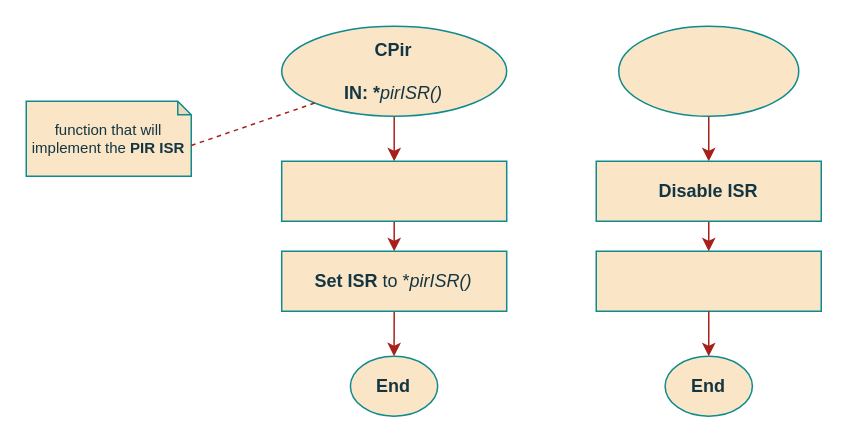
This 848x443 diagram has some shape labels left out. Each missing label, with the box of its shape:
Insert PIR device driver: (280, 160, 507, 221)
Remove PIR device driver: (595, 250, 821, 311)
~CPir: (617, 25, 799, 116)
